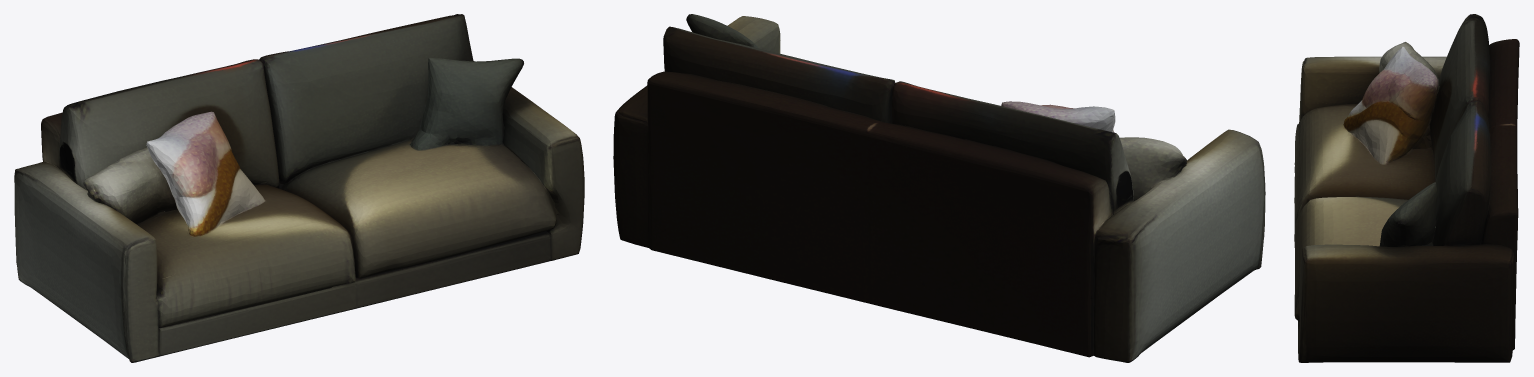
Rendered from chair.glb.
3 views of the same model, side by side, from view 1: azimuth 30°, elevation 25°; view 2: azimuth 150°, elevation 25°; view 3: azimuth 270°, elevation 25° (orthographic). The views are drawn at different scales.
Parts seen in each view (by area): view 1: world; view 2: world; view 3: world.
Boxes of the visible parts, x1,y1,x2,y2 form: world: (14,14,584,362); world: (613,14,1265,362); world: (1294,14,1519,362).
Size of the model in its own units: 0.9986 by 0.3682 by 0.4553.
1 material, 1 textured.
